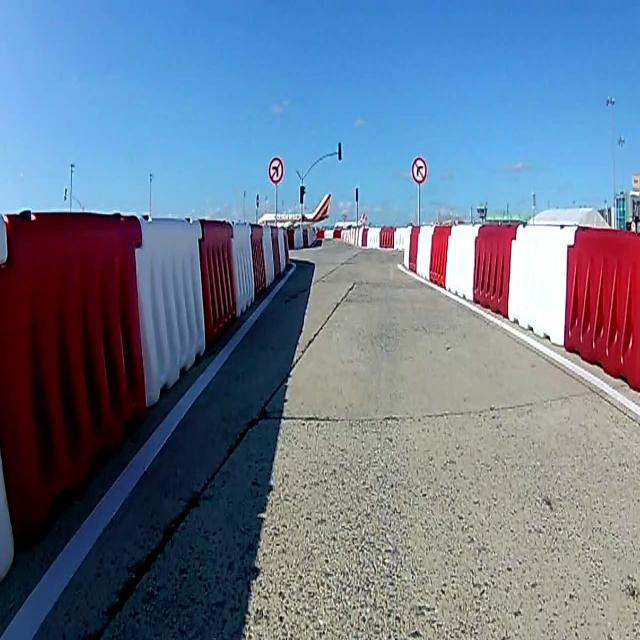sagadonulmez: (411, 157, 427, 183)
soladonulmez: (268, 157, 284, 184)
